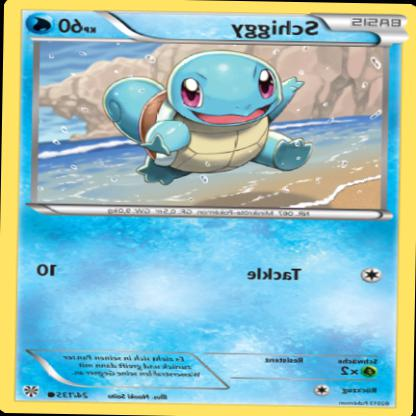Squirtle: (95, 43, 322, 191)
